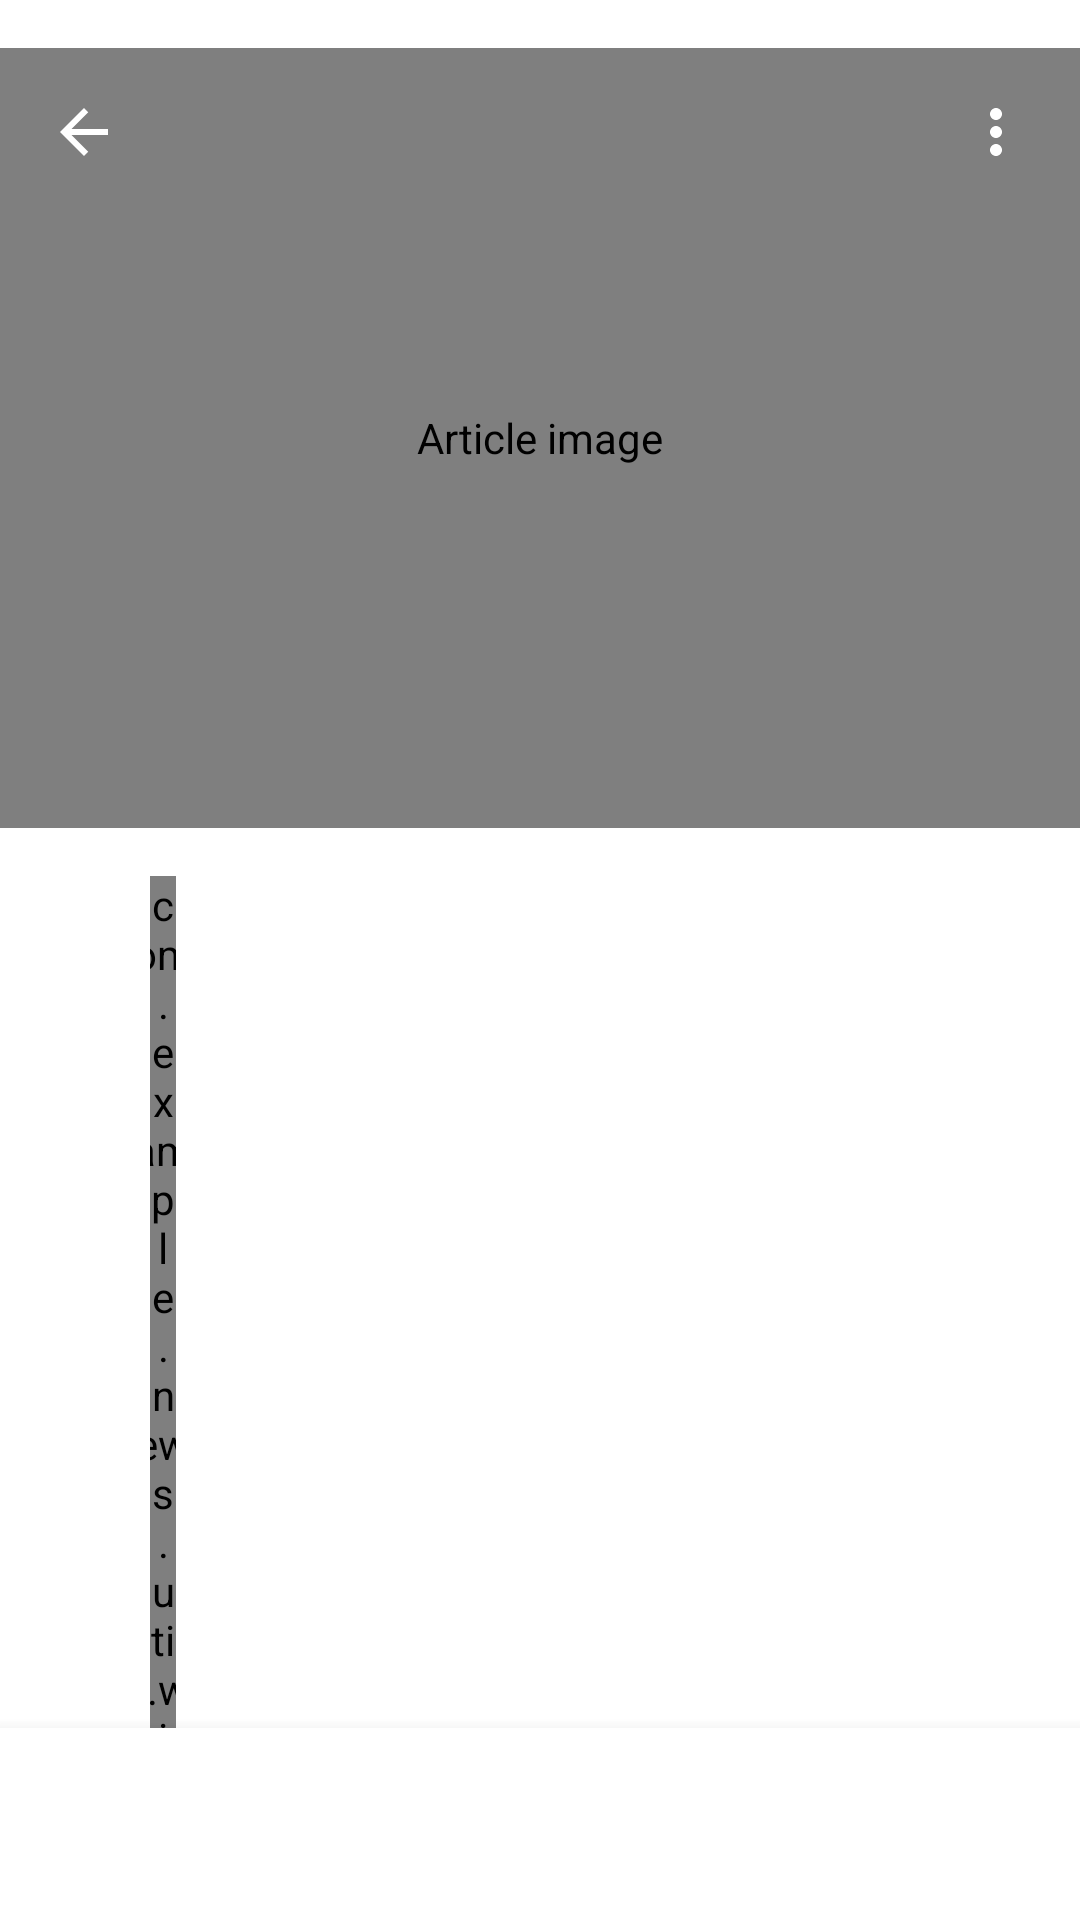

Where icons sit on this 1080px×1920px app screen, as (x1, y1, x2, y2):
back: (60, 108, 108, 156)
more: (990, 108, 1002, 156)
